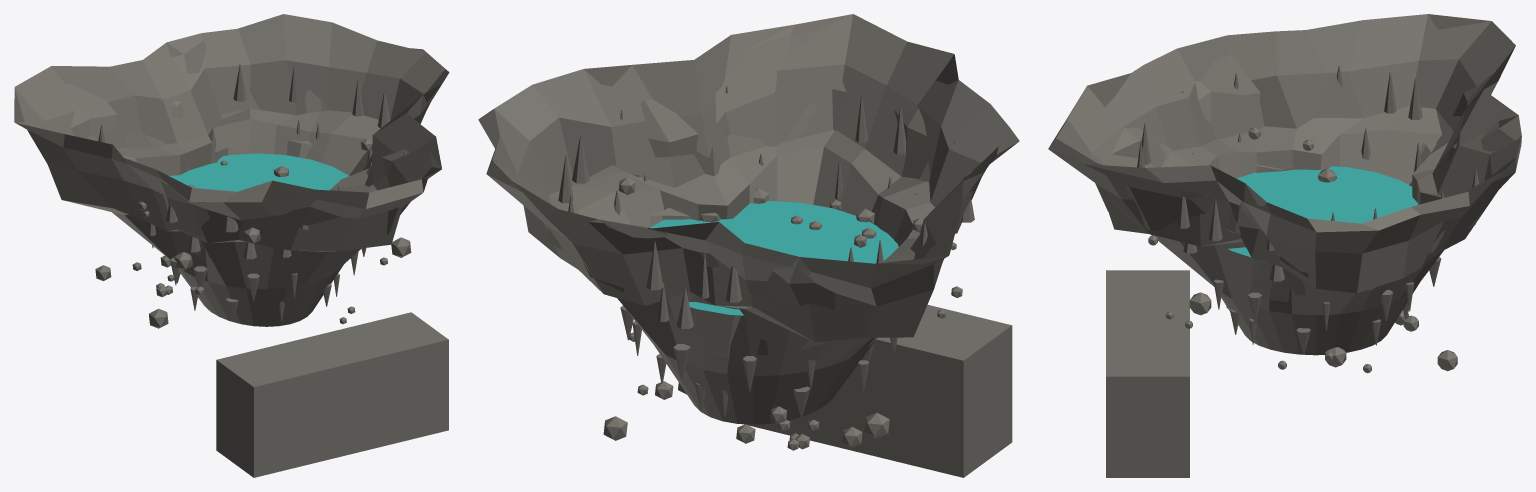
File: cenote-prueba-3.fbx
The picture shows the model from 3 angles, left to right: view 1: azimuth 30°, elevation 25°; view 2: azimuth 150°, elevation 25°; view 3: azimuth 270°, elevation 25°; orthographic projection. The views are drawn at different scales.
Visible parts, largest first — view 1: Cenote_LOD0, Cenote_Agua_Transparente; view 2: Cenote_LOD0, Cenote_Agua_Transparente; view 3: Cenote_LOD0, Cenote_Agua_Transparente.
Boxes of the visible parts, left/top/right/bottom form: Cenote_LOD0: left=14, top=14, right=449, bottom=477; Cenote_Agua_Transparente: left=169, top=153, right=348, bottom=191; Cenote_LOD0: left=478, top=14, right=1019, bottom=477; Cenote_Agua_Transparente: left=649, top=201, right=898, bottom=315; Cenote_LOD0: left=1048, top=14, right=1521, bottom=477; Cenote_Agua_Transparente: left=1228, top=166, right=1418, bottom=257.
Size of what is drawn, in the model's own units: 3569 by 2491 by 3388.
